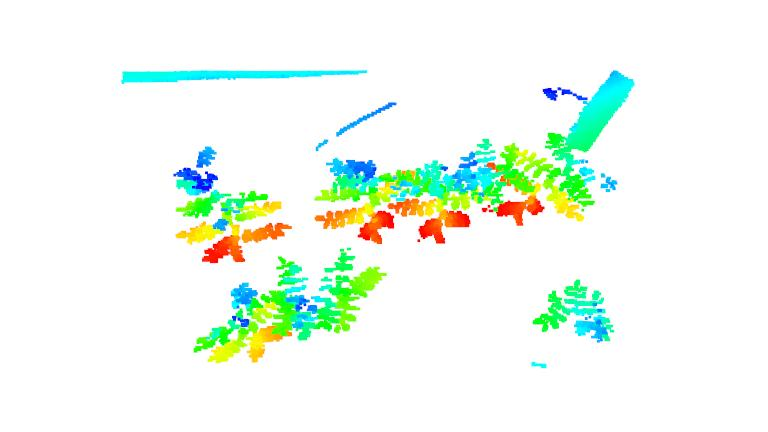chickpea: (168, 145, 296, 261), (479, 131, 621, 226), (278, 247, 400, 338), (309, 155, 410, 245), (194, 282, 301, 366), (398, 166, 483, 243), (529, 275, 617, 343)
